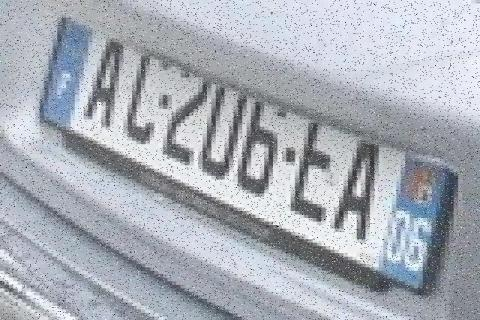LicensePlate: (26, 6, 464, 302)
